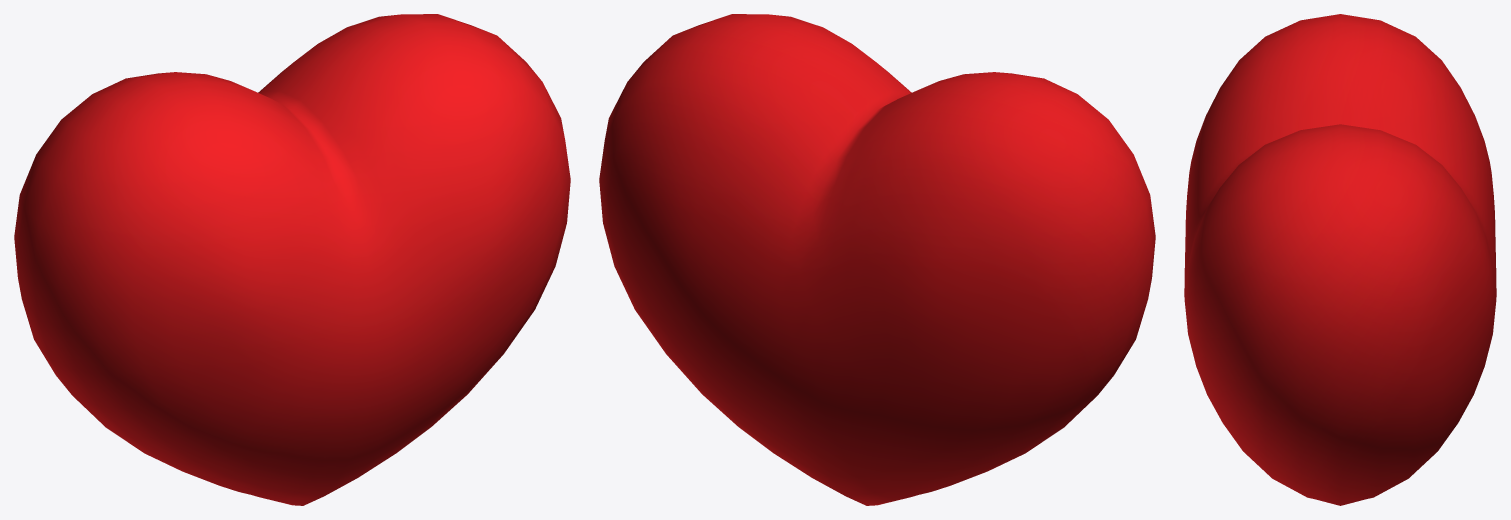
The model's file is Heart.fbx.
The picture shows the model from 3 angles, left to right: view 1: azimuth 30°, elevation 25°; view 2: azimuth 150°, elevation 25°; view 3: azimuth 270°, elevation 25°; orthographic projection. The views are drawn at different scales.
Visible parts, largest first — view 1: Heart; view 2: Heart; view 3: Heart.
Boxes of the visible parts, x1=… form: Heart: x1=14, y1=14, x2=570, y2=505; Heart: x1=599, y1=14, x2=1155, y2=505; Heart: x1=1184, y1=14, x2=1496, y2=505.
Bounding box in the file's own units: 167 × 139 × 92.86.
1 material, 1 textured.
